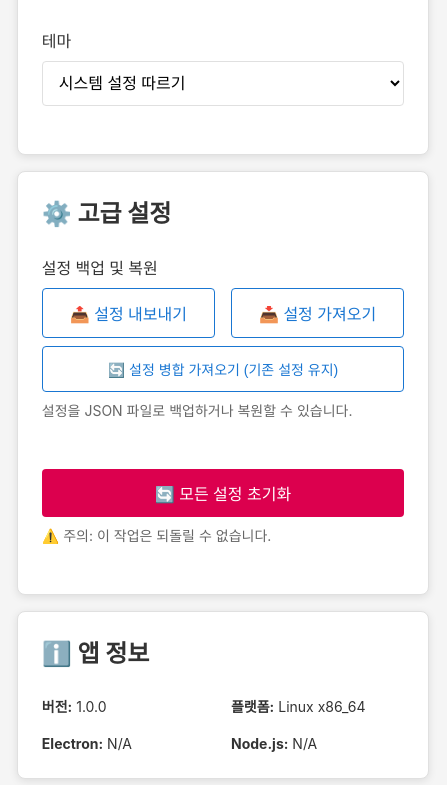
Scenario: Task 4.3 SettingsView UI Functionality › Settings Reset Functionality › should show success message after reset
(page scrolled)
Click the button "🔄 모든 설정 초기화" at (223, 493), box [42,469,404,517]
(page scrolled)
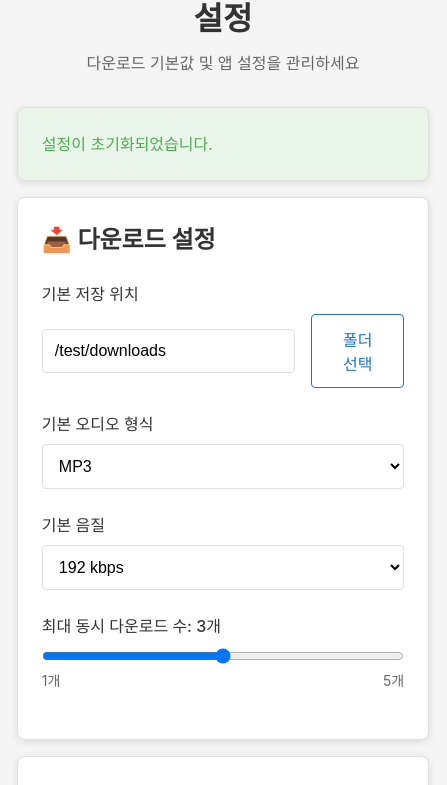
Expected: the text "설정이 초기화되었습니다." is shown, [17,107,429,181]
